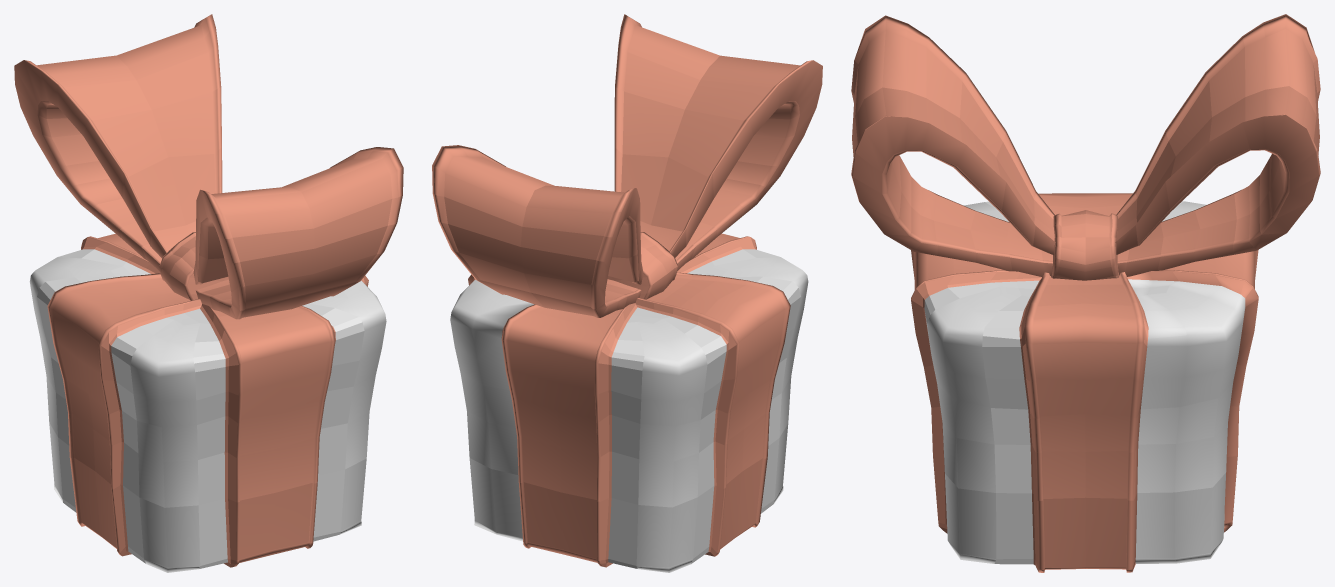
Rendered from Package_small.fbx.
The picture shows the model from 3 angles, left to right: view 1: azimuth 30°, elevation 25°; view 2: azimuth 150°, elevation 25°; view 3: azimuth 270°, elevation 25°; orthographic projection. The views are drawn at different scales.
Visible parts, largest first — view 1: Package_small; view 2: Package_small; view 3: Package_small.
Part boxes in pixels (box(x1,y1,x2,y2)): Package_small: box(14, 14, 403, 572); Package_small: box(432, 14, 822, 572); Package_small: box(851, 14, 1320, 572).
Size of the model in its own units: 166 by 243 by 229.
